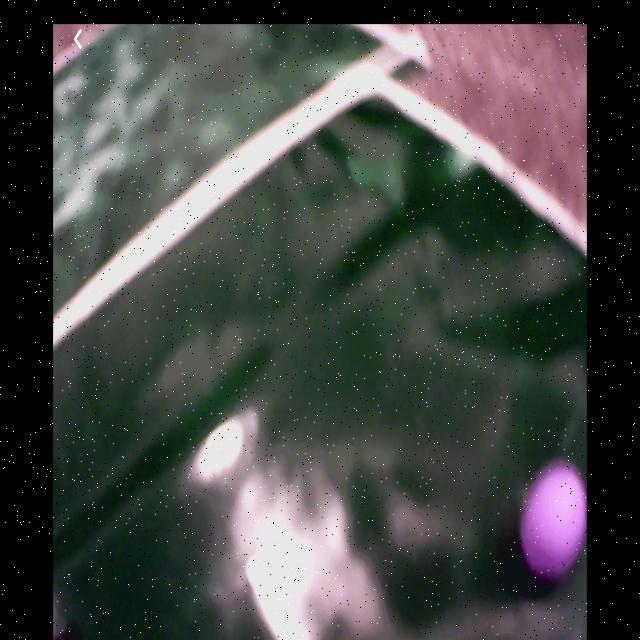ball: (519, 460, 588, 581)
